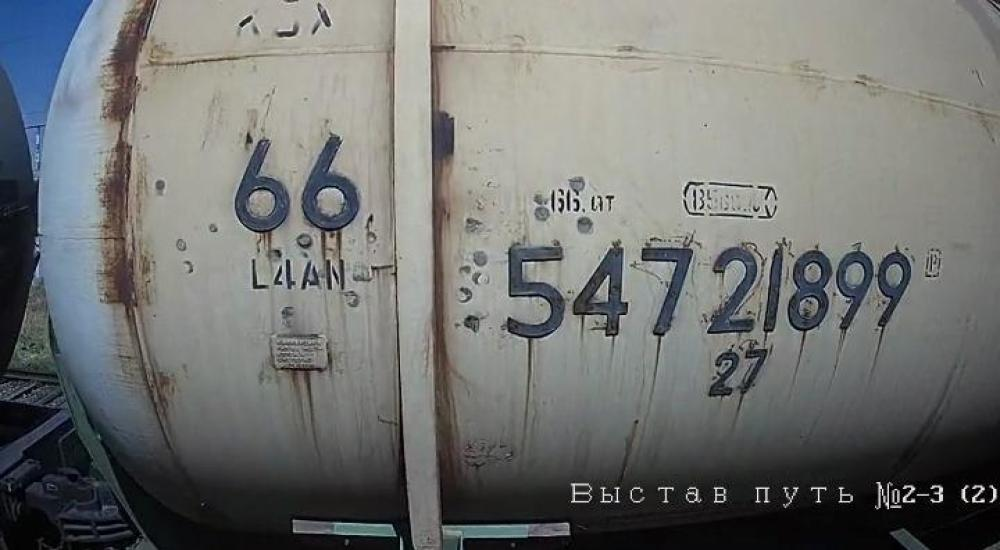Wagon-number: (496, 238, 916, 342)
